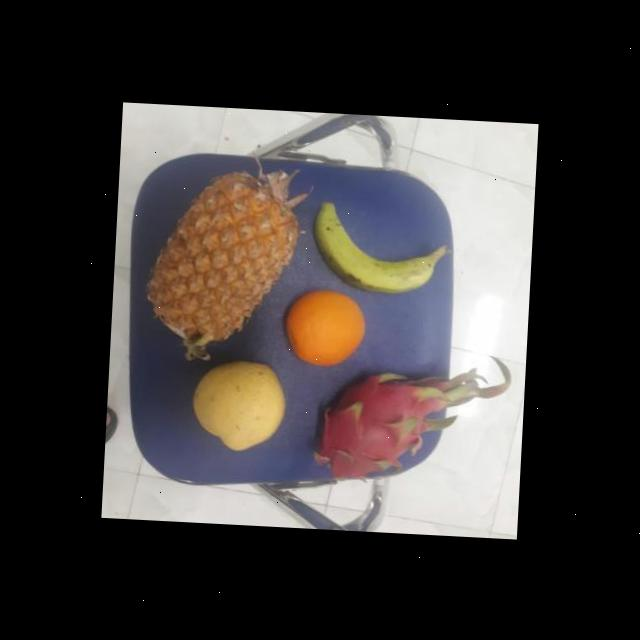banana: (310, 198, 445, 296)
orange: (286, 286, 368, 367)
pear: (191, 353, 288, 455)
pineapple: (142, 164, 302, 360)
pitaya: (312, 366, 446, 491)
